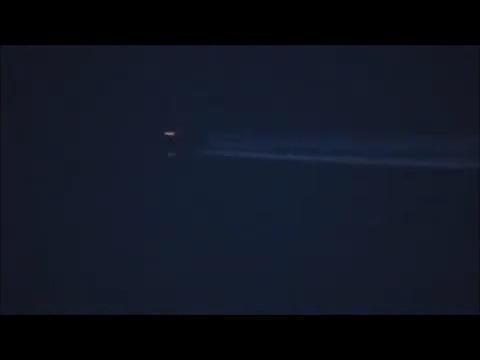Plane: (130, 115, 476, 193)
